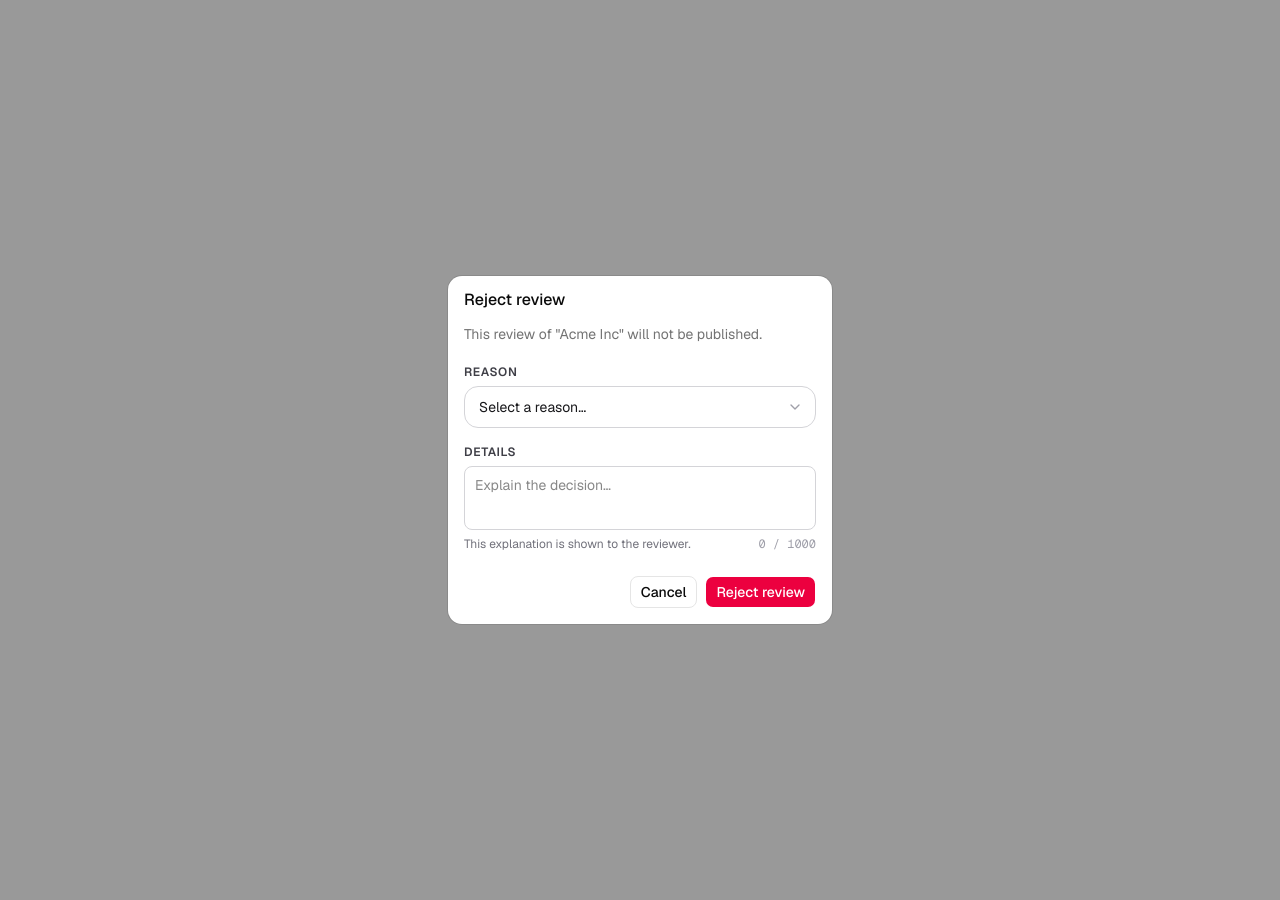
Scenario: ModerationReasonDialog › refuses details that are too short once trimmed
Select "Personal information" in the dropdown labelled "Reason" at (640, 407), box [465,387,815,427]
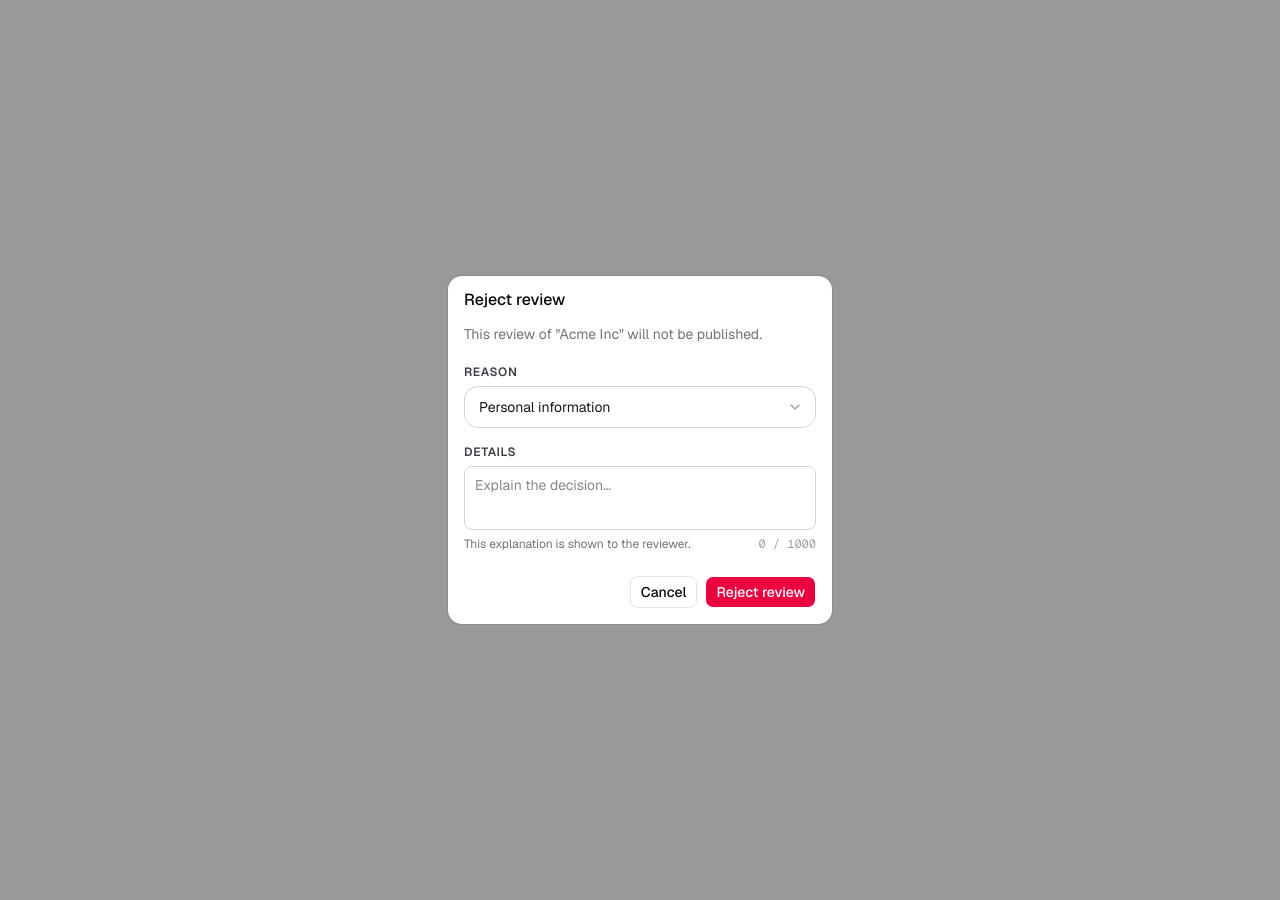
Type "   spam   " into the text box labelled "Details" at (640, 498), box [464,466,816,530]
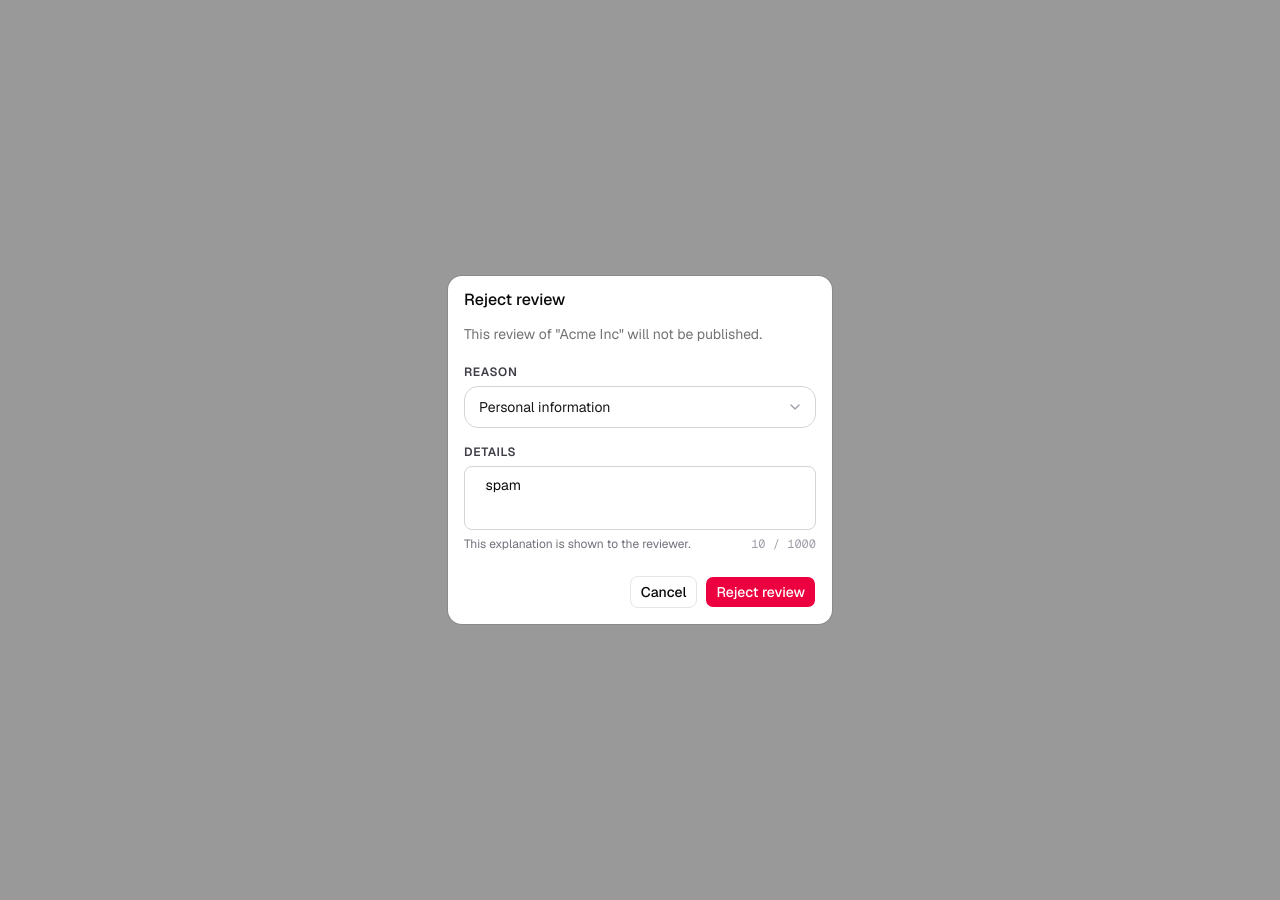
Click the button "Reject review" at (761, 592), box [705,576,816,608]
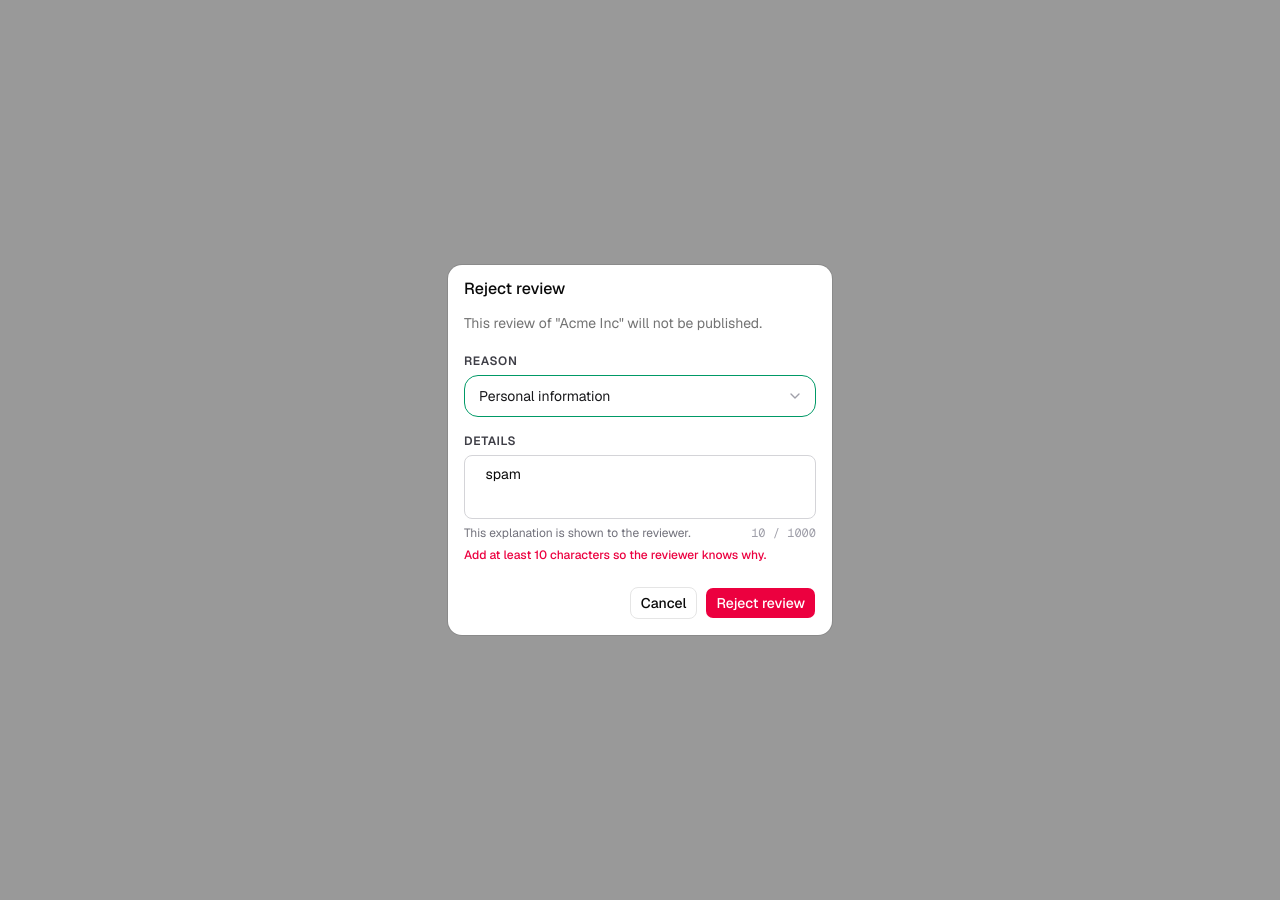
Check: the message shows "at least 10 characters", box [464,547,766,563]
